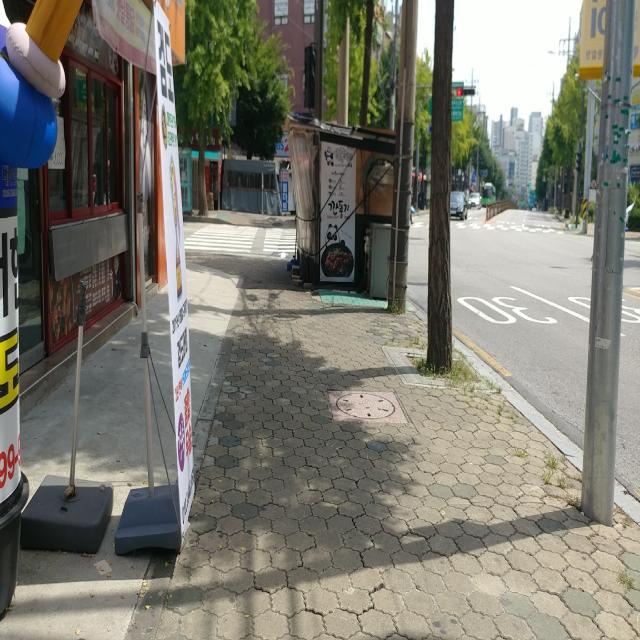횡단보도: (185, 223, 298, 259)
